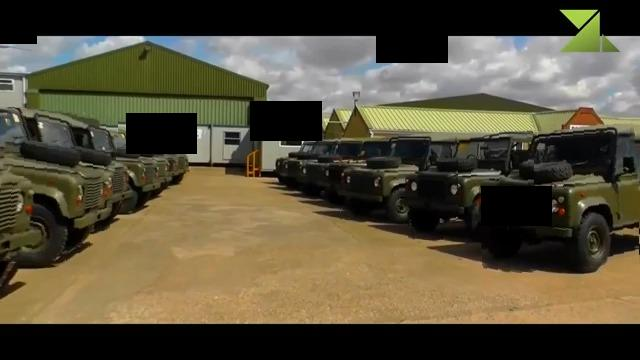MIL_HMMWV: (474, 126, 640, 272), (0, 109, 115, 268), (406, 131, 536, 240), (339, 134, 459, 222)
